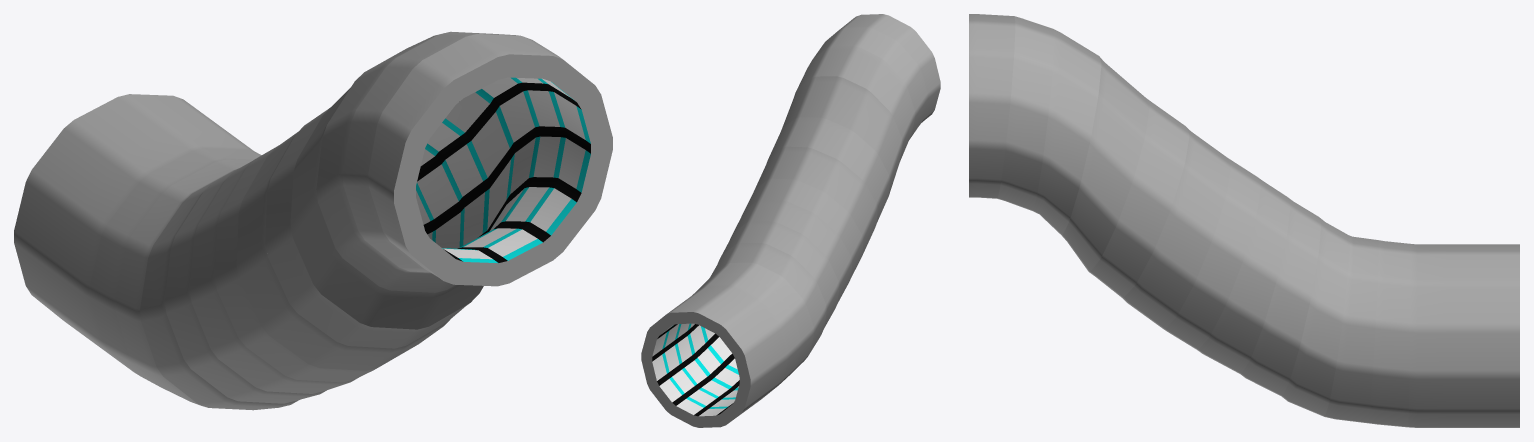
File: 02-Curva-Cima-01.fbx
3 views of the same model, side by side, from view 1: azimuth 30°, elevation 25°; view 2: azimuth 150°, elevation 25°; view 3: azimuth 270°, elevation 25° (orthographic). The views are drawn at different scales.
Parts seen in each view (by area): view 1: Visual; view 2: Visual; view 3: Visual.
Part boxes in pixels (x1,y1,x2,y2): Visual: [14, 31, 612, 410]; Visual: [641, 14, 940, 427]; Visual: [969, 14, 1519, 427].
Size of the model in its own units: 4993 by 11917 by 15000.
